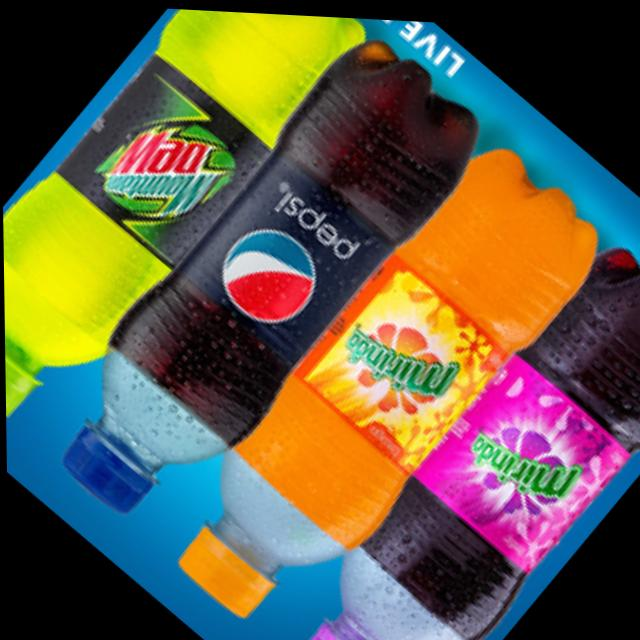plastic_soda_bottles: (16, 5, 505, 566), (147, 110, 622, 640), (0, 0, 384, 463), (264, 213, 640, 640)
